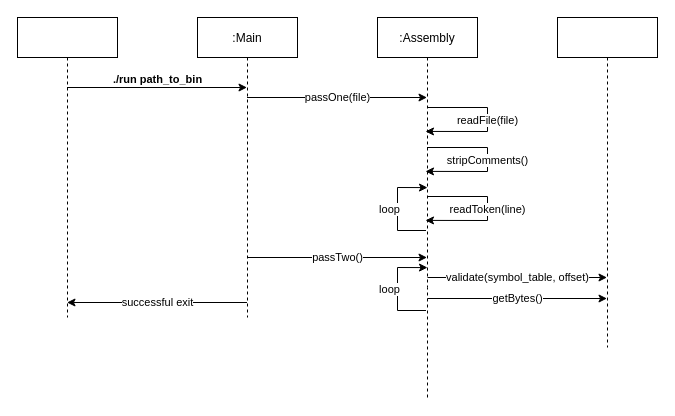
Image size: 675x416. Some labels were removed from this diagram. Each missing label, with the box of its shape:
:Actor(User): (16, 16, 118, 318)
:Token: (556, 16, 658, 348)
